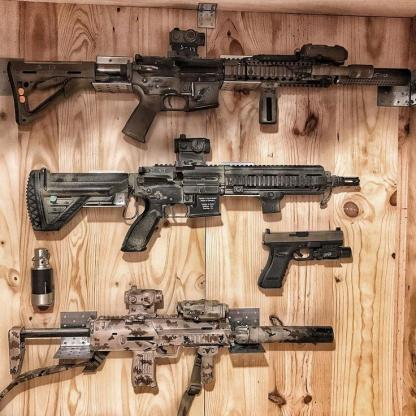Grenade: (30, 246, 54, 309)
Gun: (7, 25, 416, 146), (0, 282, 334, 416), (23, 131, 362, 252)
Pistol: (257, 225, 352, 293)
